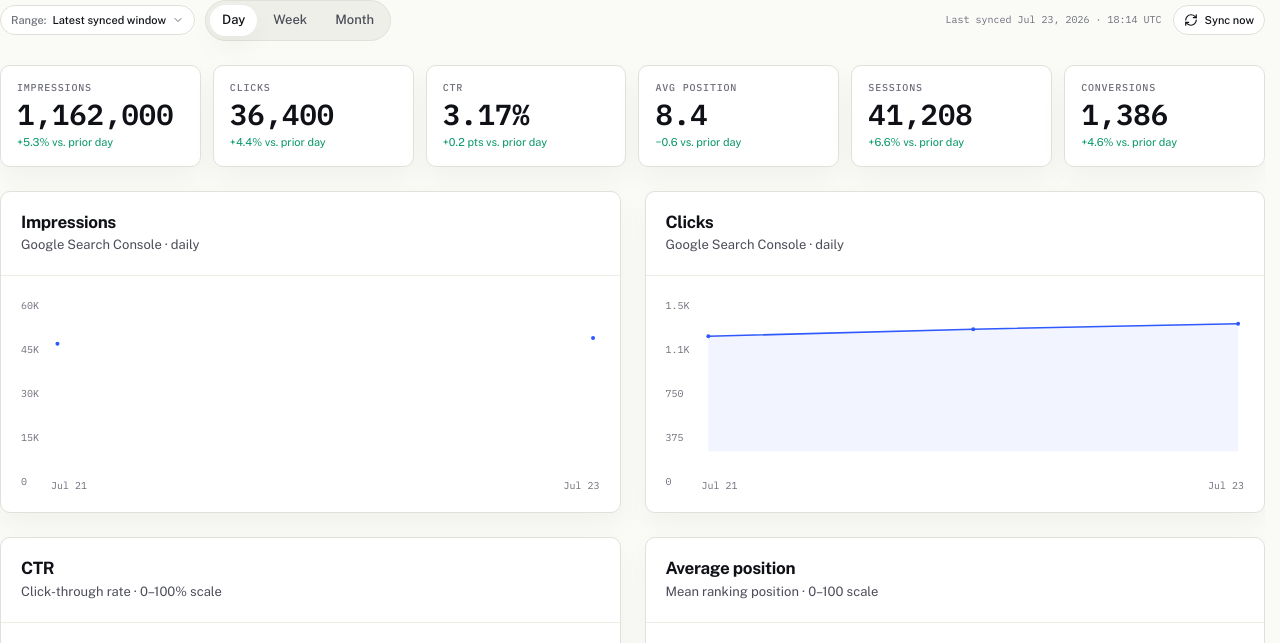
Scenario: TrafficScreen — empty + bounded-miss states › shows the honest no-snapshot note when a bounded range matches no persisted window
Expected: the element with test id "traffic-stats" is shown, [0,65,1265,167]
Click the button with aria-label "Select date range" at [98, 20], box [0,5,195,35]
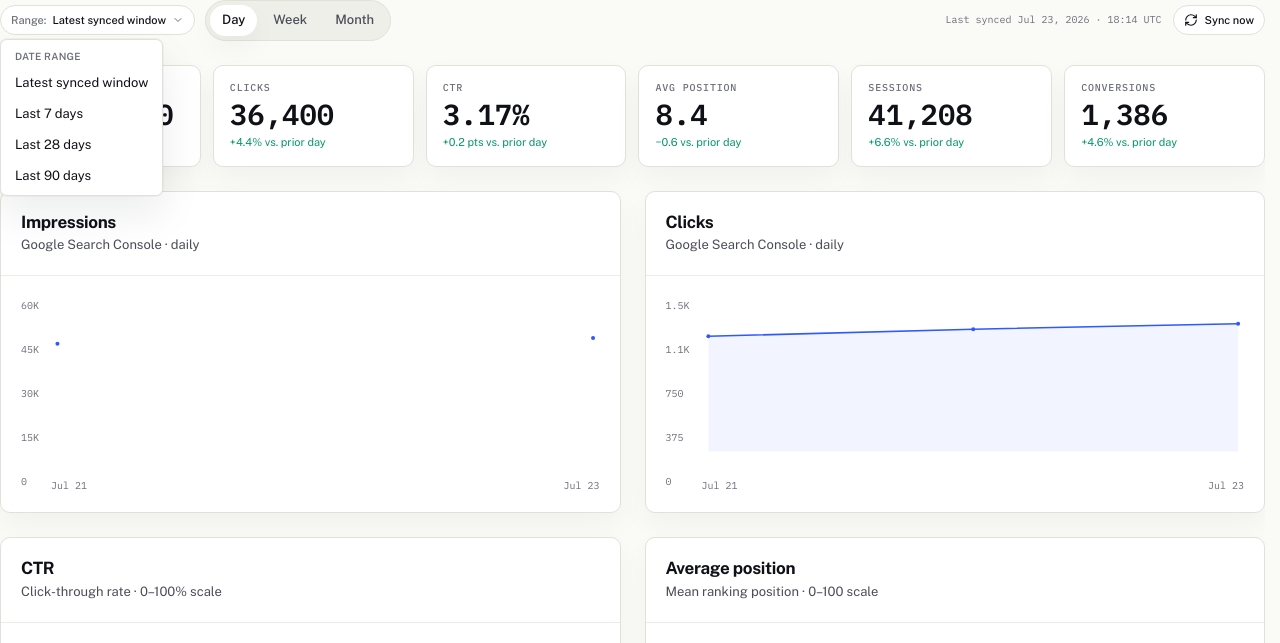
Click the menu item "Last 28 days" at [53, 144], box [15,137,91,152]
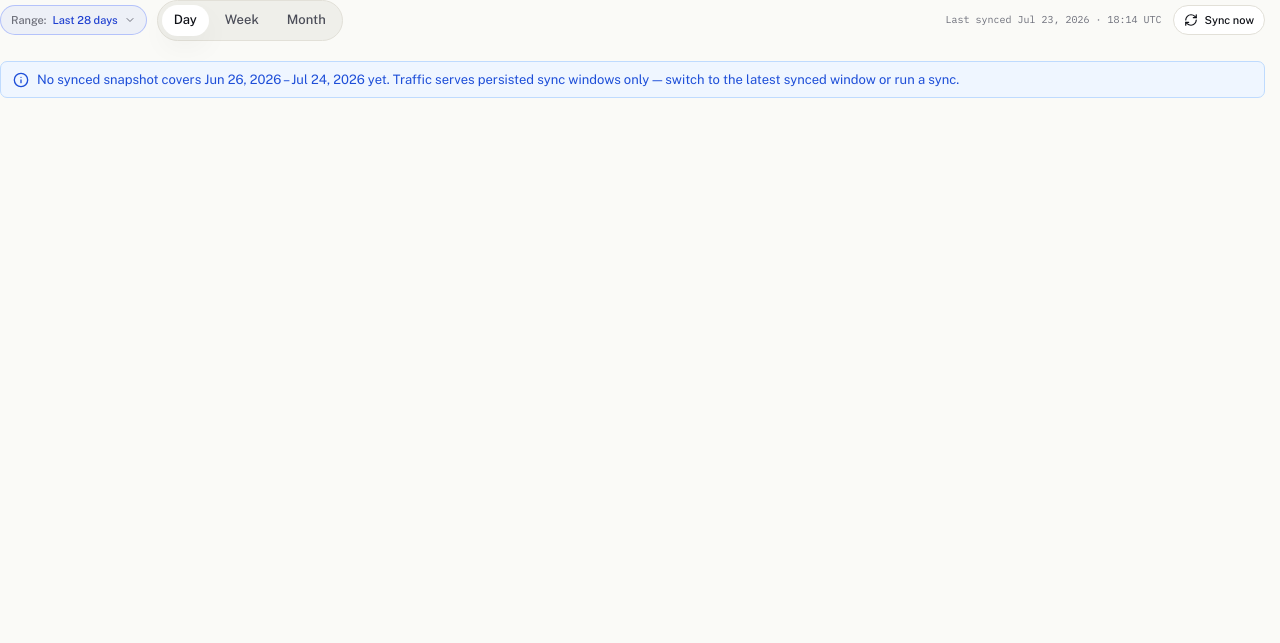
Expected: the text "No synced snapshot covers" is shown, [37,72,204,87]
Expected: the text "Traffic serves persisted sync windows only" is shown, [365,72,959,87]
Expected: the element with test id "traffic-stats" is gone
